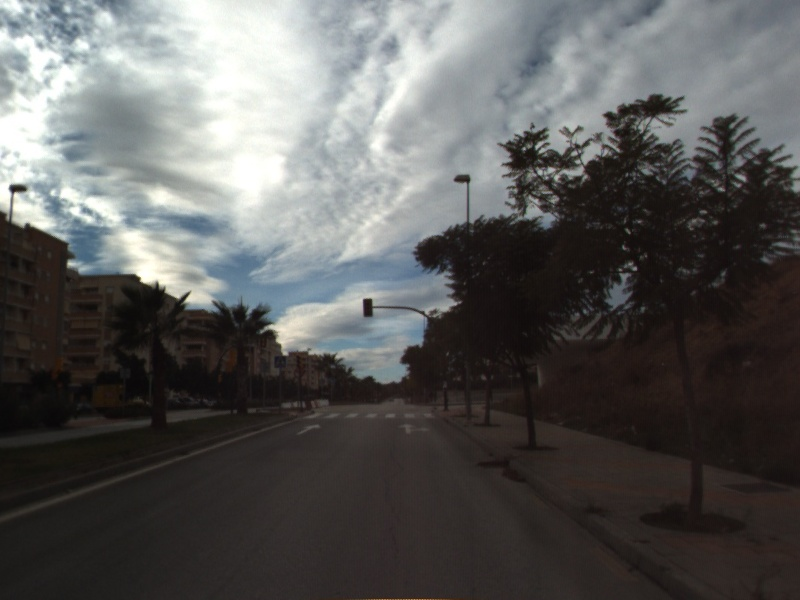STRAIGHT: (294, 422, 323, 437)
STRAIGHT_RIGHT: (396, 421, 432, 436)
